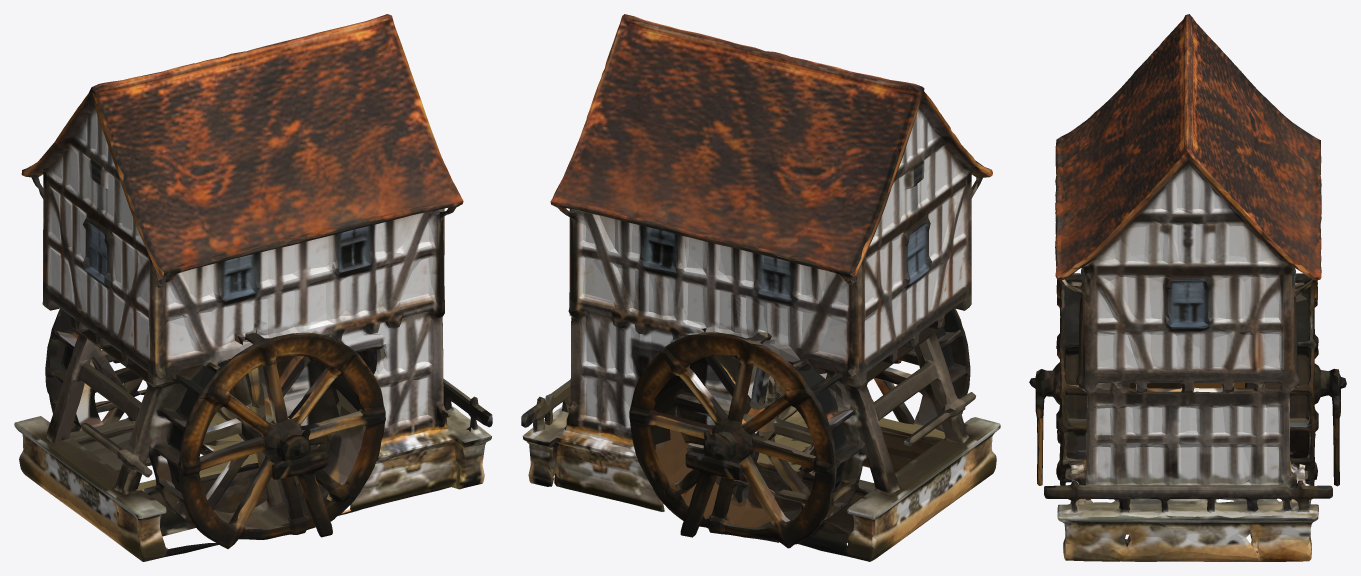
Rendered from mdl_watermill_001.glb.
3 renders of one model, left to right at view 1: azimuth 30°, elevation 25°; view 2: azimuth 150°, elevation 25°; view 3: azimuth 270°, elevation 25°, orthographic. The views are drawn at different scales.
Visible parts, largest first — view 1: tmp4sw3ngku.ply; view 2: tmp4sw3ngku.ply; view 3: tmp4sw3ngku.ply.
Boxes of the visible parts, x1,y1,x2,y2 form: tmp4sw3ngku.ply: (14,14,492,561); tmp4sw3ngku.ply: (521,14,1000,561); tmp4sw3ngku.ply: (1029,14,1346,561).
Size of the model in its own units: 0.8352 by 0.9892 by 0.7083.
Materials: 1 (1 with a texture image).
